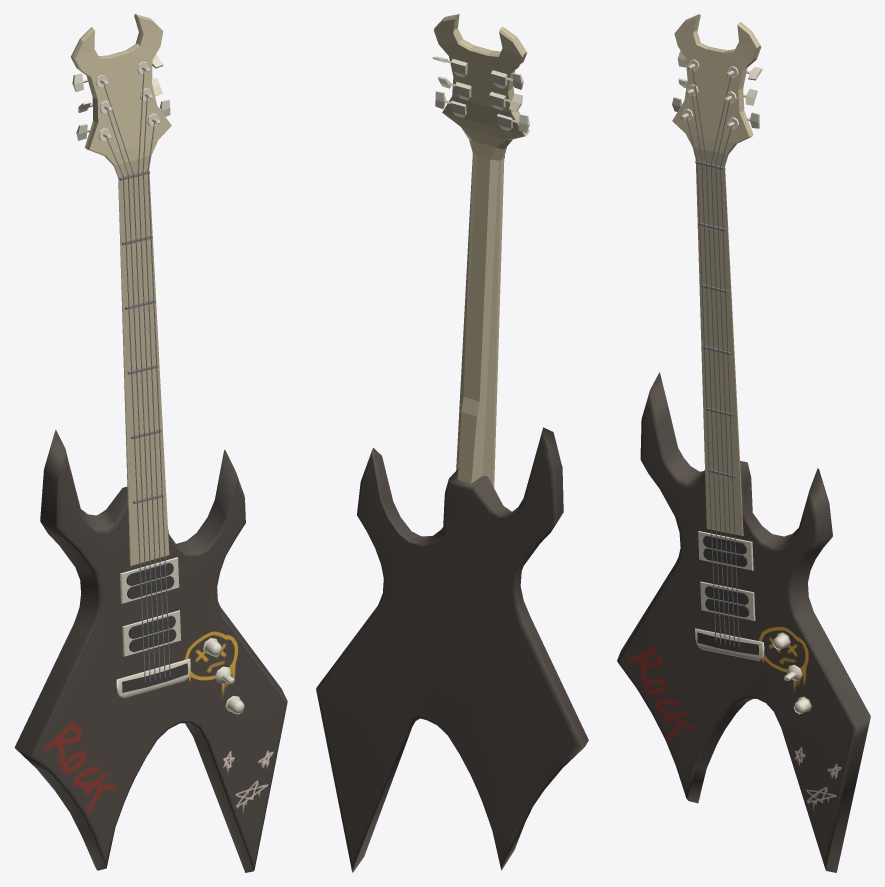
Rendered from guitar.fbx.
The picture shows the model from 3 angles, left to right: view 1: azimuth 30°, elevation 25°; view 2: azimuth 150°, elevation 25°; view 3: azimuth 330°, elevation 25°; orthographic projection. The views are drawn at different scales.
Visible parts, largest first — view 1: polySurface40, polySurface88; view 2: polySurface40, polySurface88; view 3: polySurface40, polySurface88.
Boxes of the visible parts, box(x1,y1,x2,y2) form: polySurface40: box(14, 429, 287, 872); polySurface88: box(71, 14, 244, 714); polySurface40: box(316, 427, 588, 872); polySurface88: box(432, 14, 529, 487); polySurface40: box(617, 372, 870, 872); polySurface88: box(672, 14, 811, 714).
Bounding box in the file's own units: 3.21 × 10.13 × 0.5338.
